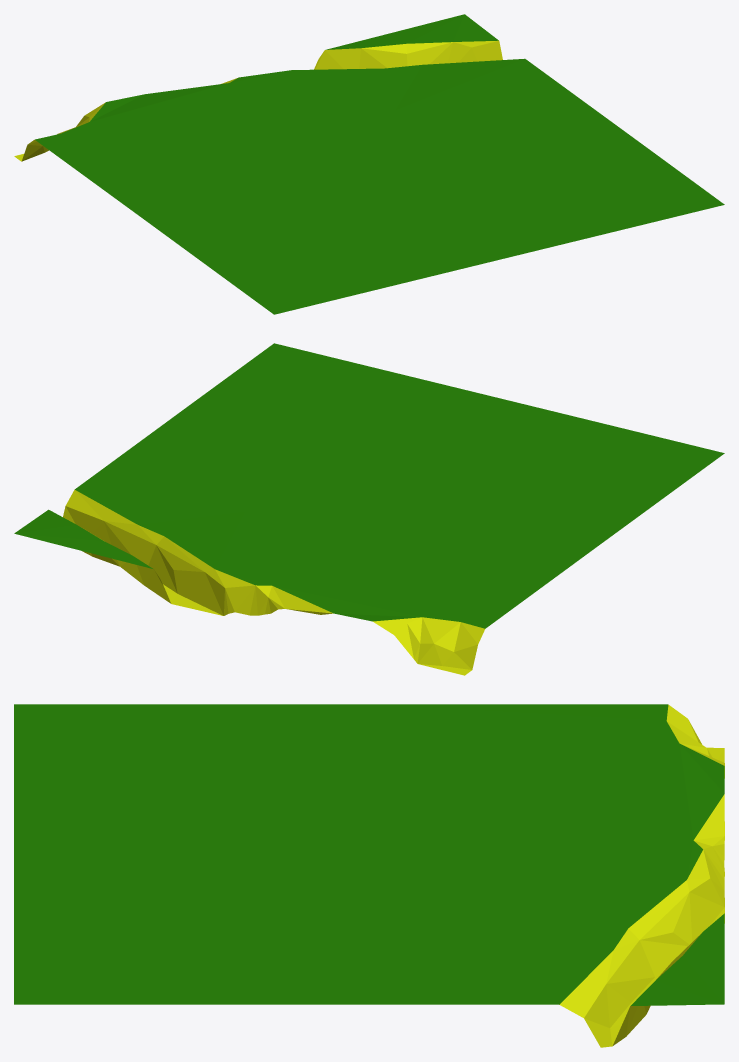
The picture shows the model from 3 angles, top to bottom: view 1: azimuth 30°, elevation 25°; view 2: azimuth 150°, elevation 25°; view 3: azimuth 270°, elevation 25°; orthographic projection. The views are drawn at different scales.
Visible parts, largest first — view 1: TerrainVeryHigh.006; view 2: TerrainVeryHigh.006; view 3: TerrainVeryHigh.006.
Boxes of the visible parts, x1=… form: TerrainVeryHigh.006: x1=14, y1=14, x2=724, y2=314; TerrainVeryHigh.006: x1=14, y1=343, x2=724, y2=675; TerrainVeryHigh.006: x1=14, y1=704, x2=724, y2=1047.
Bounding box in the file's own units: 1251 × 1251 × 85.09.
